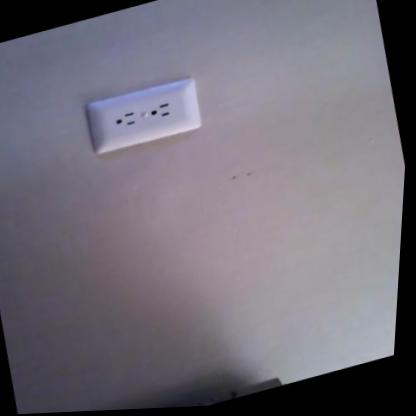OUTLET: (82, 73, 205, 156)
